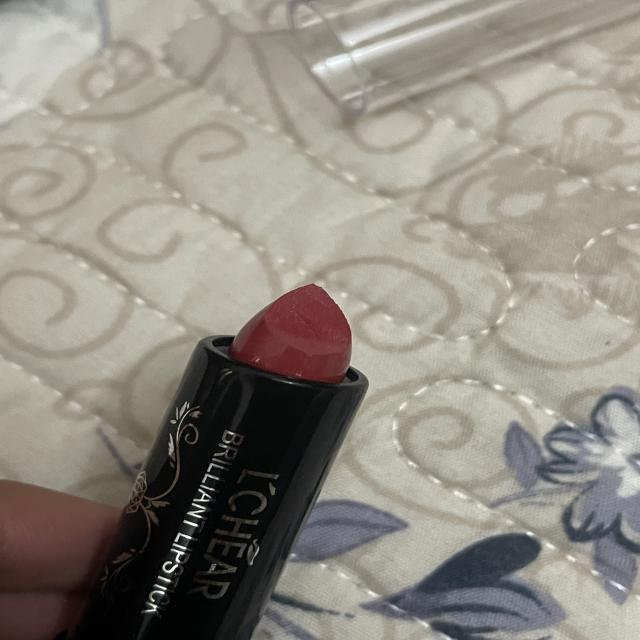lip stick: (54, 268, 390, 640)
